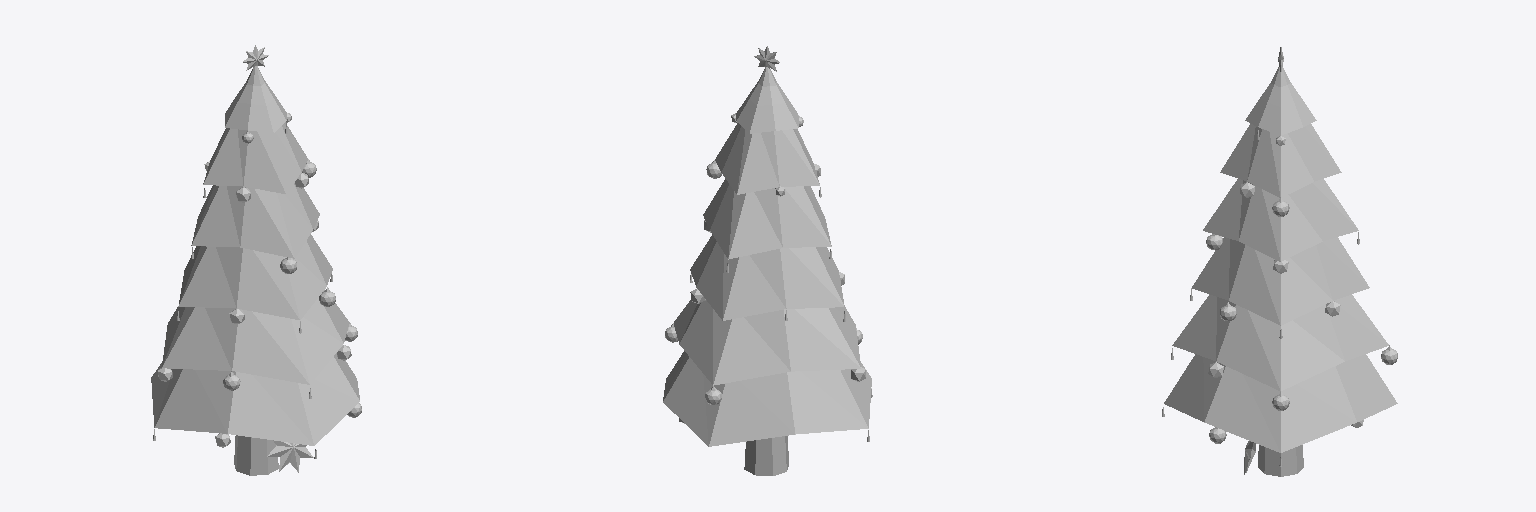
File: pinetree.obj
3 renders of one model, left to right at view 1: azimuth 30°, elevation 25°; view 2: azimuth 150°, elevation 25°; view 3: azimuth 270°, elevation 25°, orthographic.
Parts seen in each view (by area): view 1: Cylinder_Cylinder.001, Cylinder.001_Cylinder.002, Cylinder.003_Cylinder.006; view 2: Cylinder_Cylinder.001, Cylinder.001_Cylinder.002; view 3: Cylinder_Cylinder.001, Cylinder.001_Cylinder.002.
Boxes of the visible parts, x1=… form: Cylinder_Cylinder.001: x1=151, y1=66, x2=359, y2=445; Cylinder.001_Cylinder.002: x1=234, y1=435, x2=278, y2=475; Cylinder.003_Cylinder.006: x1=267, y1=440, x2=313, y2=472; Cylinder_Cylinder.001: x1=663, y1=67, x2=871, y2=446; Cylinder.001_Cylinder.002: x1=744, y1=436, x2=788, y2=475; Cylinder_Cylinder.001: x1=1164, y1=67, x2=1397, y2=452; Cylinder.001_Cylinder.002: x1=1258, y1=445, x2=1303, y2=476.
Size of the model in its own units: 4.92 by 9.67 by 4.93.